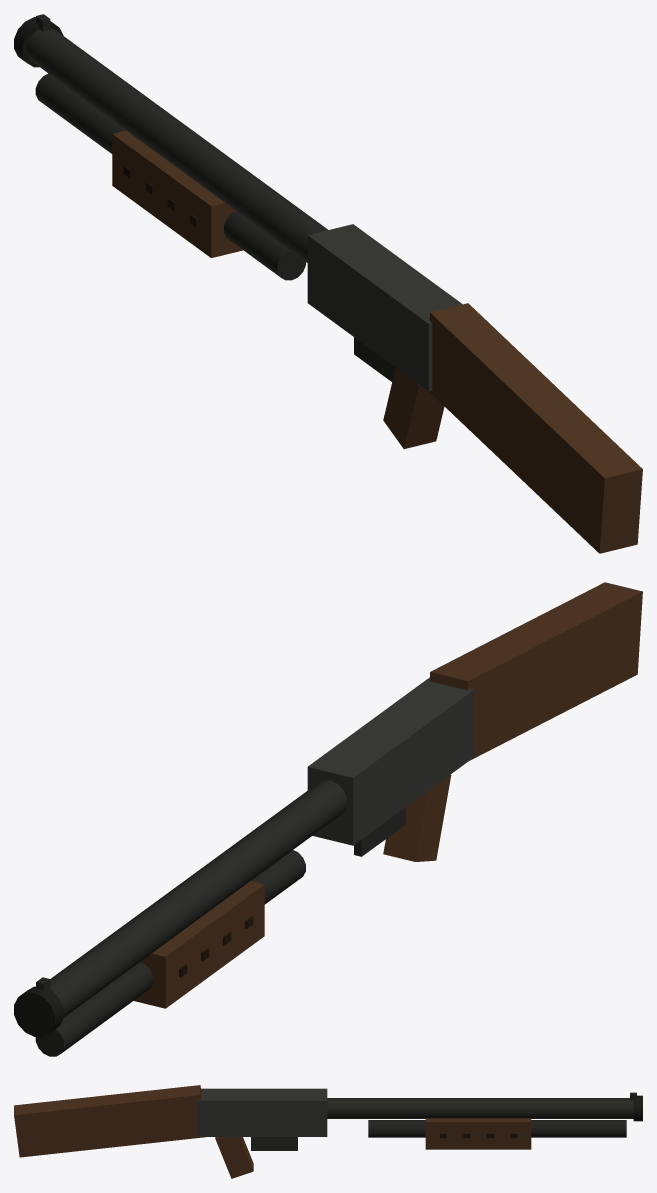
The model's file is shotgun.glb.
3 renders of one model, top to bottom at view 1: azimuth 30°, elevation 25°; view 2: azimuth 150°, elevation 25°; view 3: azimuth 270°, elevation 25°, orthographic. The views are drawn at different scales.
Visible parts, largest first — view 1: Gun, Pump; view 2: Gun, Pump; view 3: Gun, Pump.
Part boxes in pixels (box(x1,y1,x2,y2)): Gun: box(14, 14, 642, 553); Pump: box(112, 130, 242, 257); Gun: box(14, 582, 642, 1056); Pump: box(134, 881, 264, 1008); Gun: box(14, 1085, 642, 1178); Pump: box(425, 1118, 531, 1149).
Bounding box in the file's own units: 0.15 × 0.3982 × 2.68.
